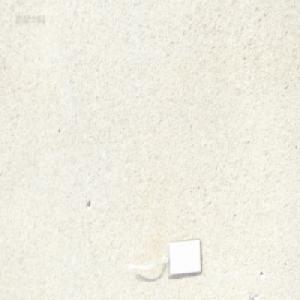LuggageTag: (125, 235, 202, 278)
